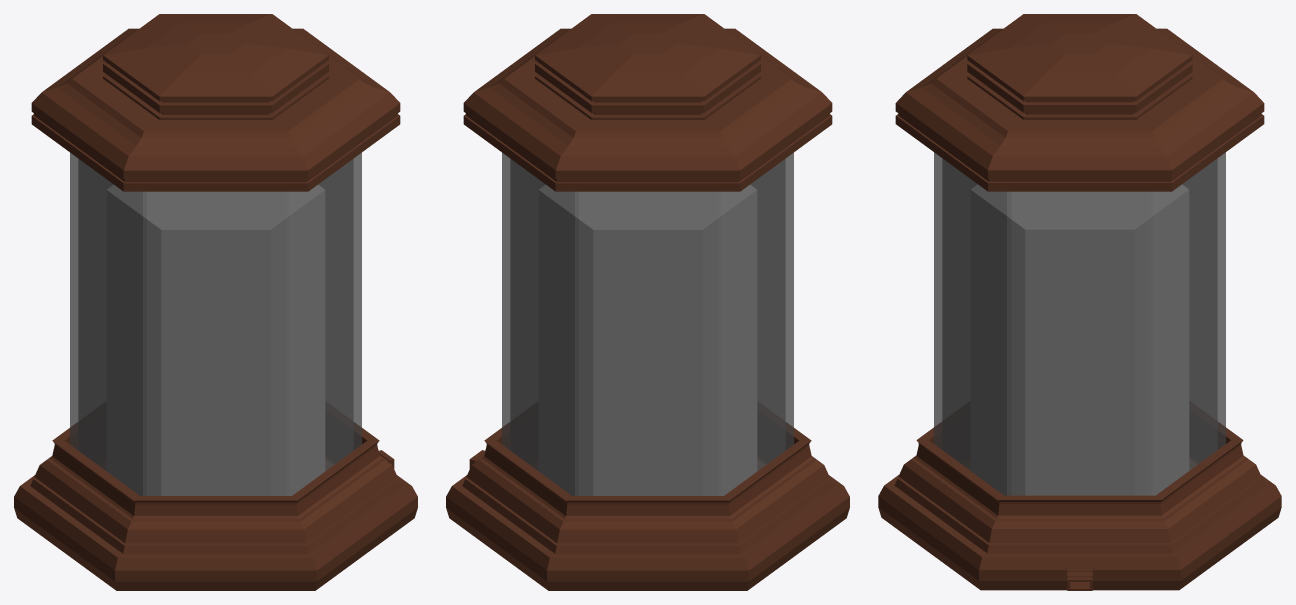
The model's file is SM_Tank.fbx.
The picture shows the model from 3 angles, left to right: view 1: azimuth 30°, elevation 25°; view 2: azimuth 150°, elevation 25°; view 3: azimuth 270°, elevation 25°; orthographic projection.
Visible parts, largest first — view 1: SM_Tank, SM_Liquid; view 2: SM_Tank, SM_Liquid; view 3: SM_Tank, SM_Liquid.
Boxes of the visible parts, box(x1,y1,x2,y2) form: SM_Tank: box(14, 14, 417, 590); SM_Liquid: box(107, 185, 324, 495); SM_Tank: box(446, 14, 849, 590); SM_Liquid: box(539, 185, 756, 495); SM_Tank: box(878, 14, 1281, 590); SM_Liquid: box(971, 185, 1188, 495).
Size of the model in its own units: 147 by 205 by 158.
